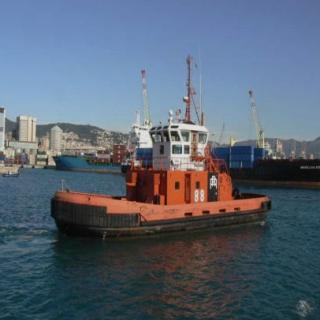Tug Boat: (50, 48, 268, 236)
